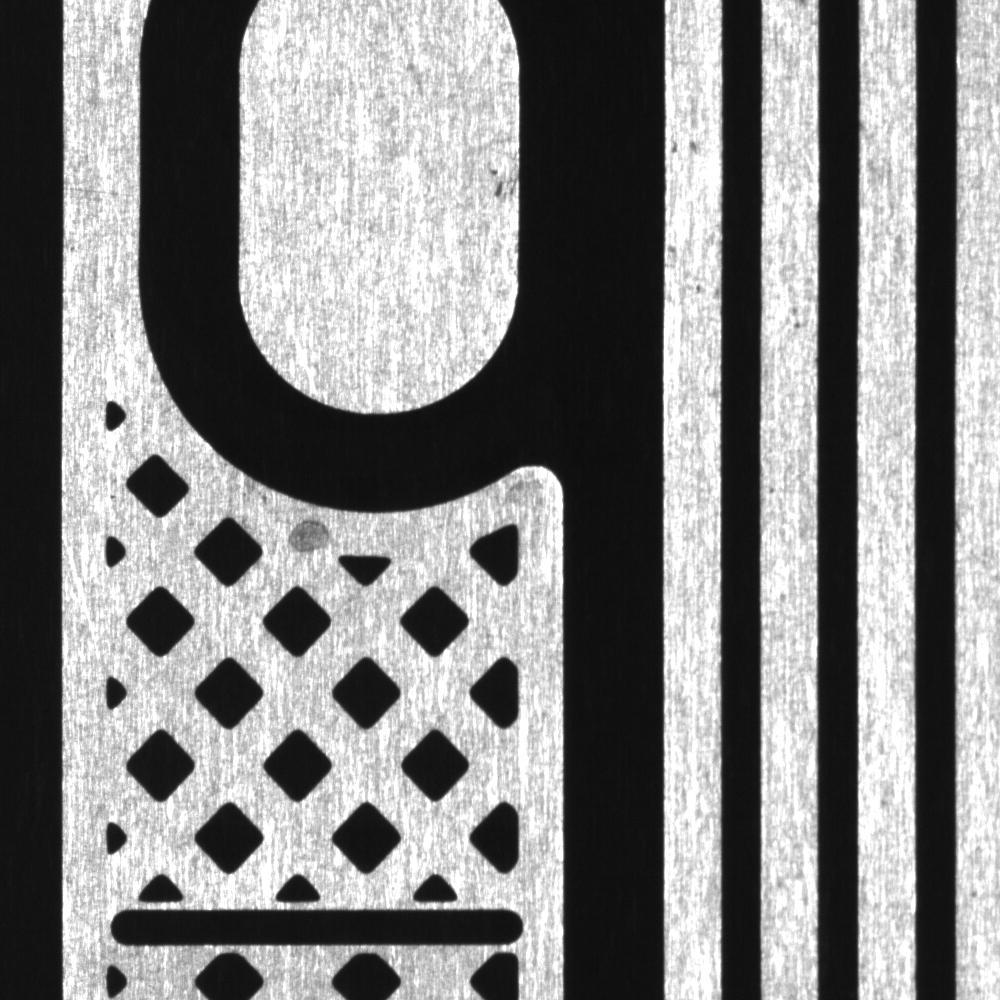Discolor: (273, 506, 347, 568), (495, 477, 554, 534)
Etching: (472, 140, 520, 219), (663, 126, 711, 165), (781, 296, 808, 337)
